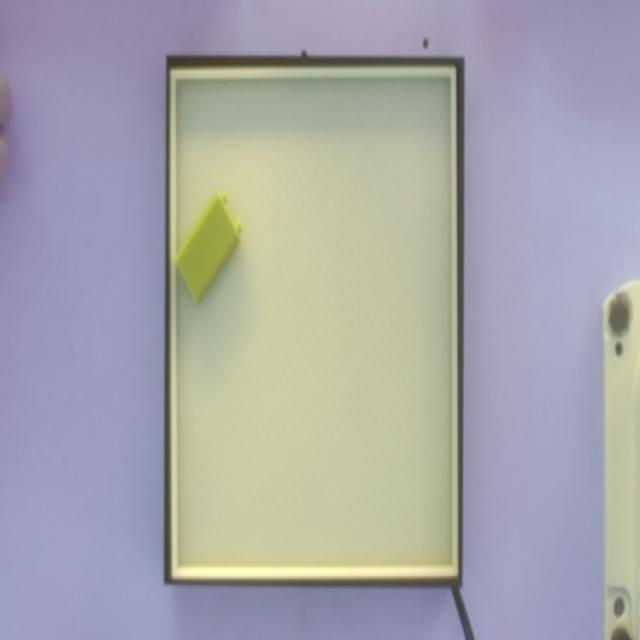bateria: (173, 193, 241, 305)
mesa: (164, 57, 464, 588)
